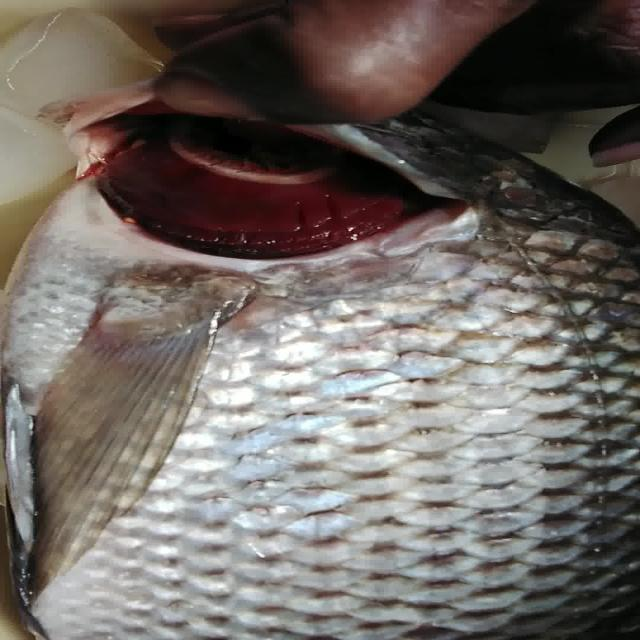Fresh: (87, 120, 407, 263)
